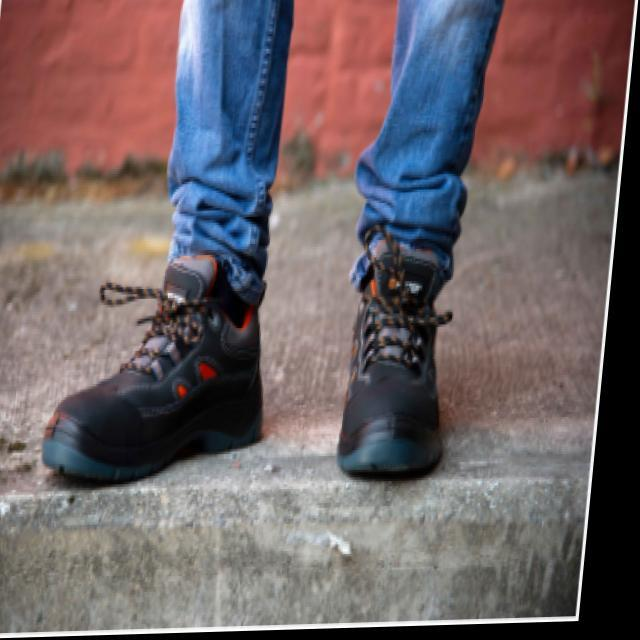boots: (32, 208, 474, 506)
